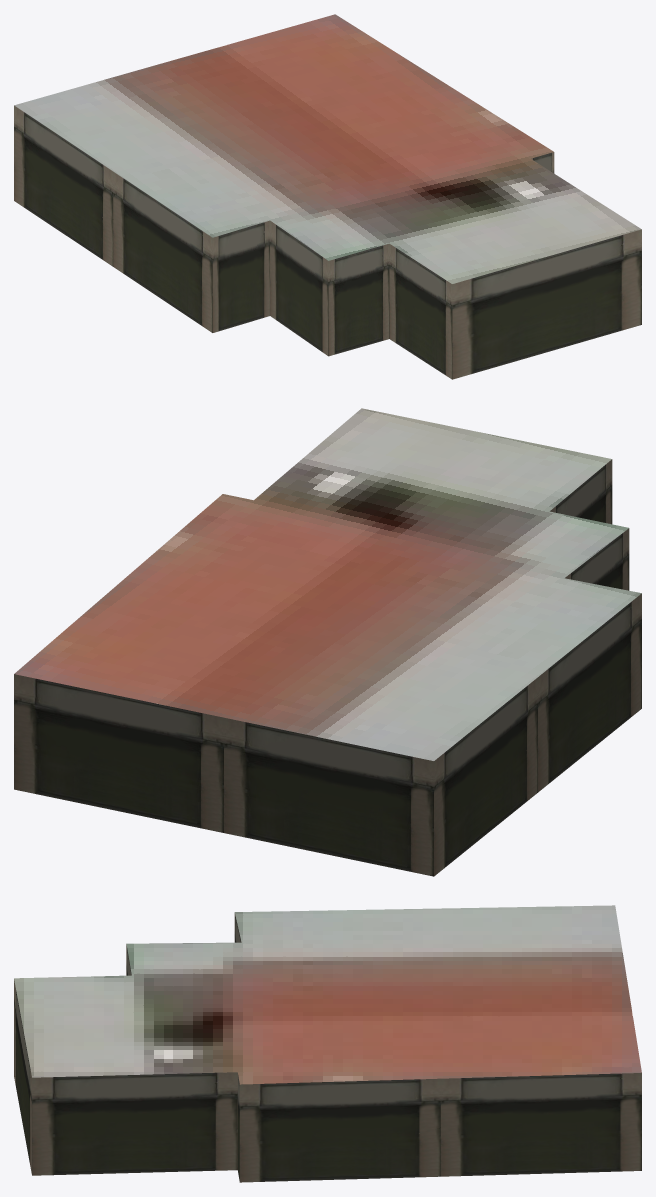
File: T_1T16D4NUVK.dae
3 views of the same model, one above another, from view 1: azimuth 30°, elevation 25°; view 2: azimuth 150°, elevation 25°; view 3: azimuth 270°, elevation 25° (orthographic). The views are drawn at different scales.
Parts seen in each view (by area): view 1: SketchUp (×7); view 2: SketchUp (×5); view 3: SketchUp (×4).
Part boxes in pixels (<box>): SketchUp (×7): <box>14,14,641,379</box>; SketchUp (×5): <box>14,408,641,876</box>; SketchUp (×4): <box>14,905,641,1182</box>.
Bounding box in the file's own units: 10.7 × 15.85 × 2.73.
2 materials, 2 textured.
